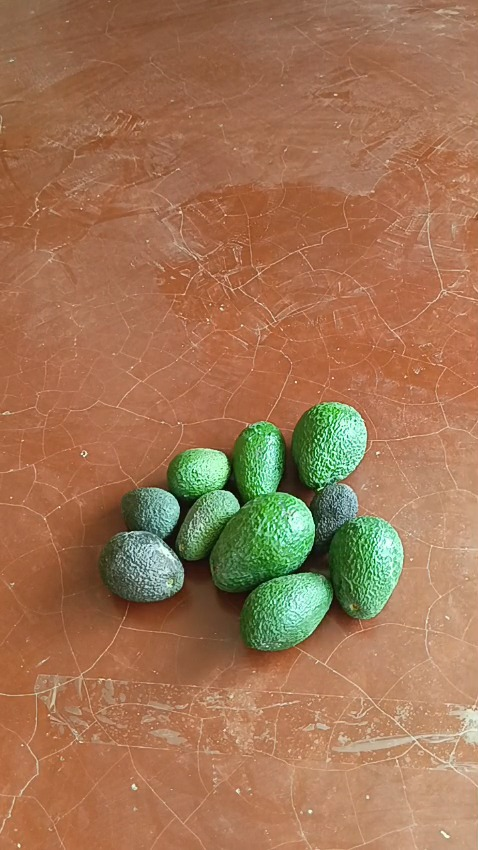Primera: (209, 492, 316, 592), (327, 516, 403, 619), (290, 401, 368, 488)
Segunda: (240, 571, 334, 651), (96, 530, 185, 603), (231, 421, 285, 501)
Tercera: (176, 489, 241, 561), (166, 447, 230, 502), (308, 482, 357, 553), (120, 486, 181, 541)
